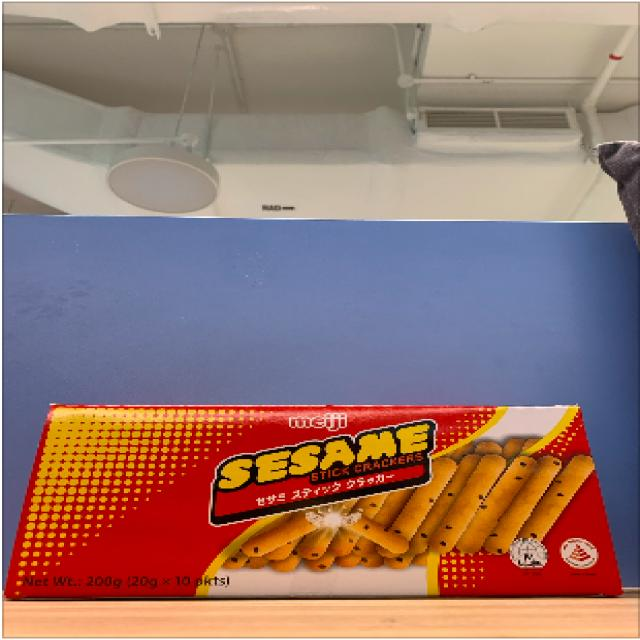object_name: (17, 402, 625, 599)
